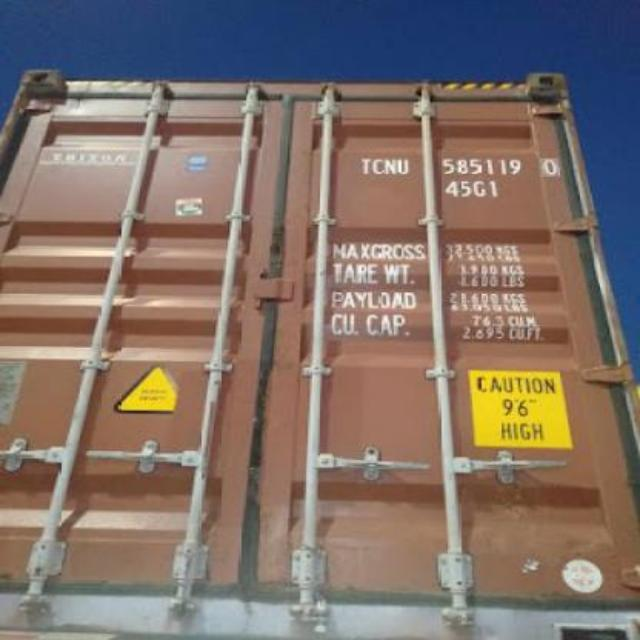0: (542, 157, 558, 175)
1: (484, 156, 496, 174), (498, 157, 508, 175)
5: (440, 156, 456, 174), (470, 156, 486, 174)
8: (456, 156, 468, 177)
9: (508, 158, 524, 178)
C: (372, 157, 386, 173)
N: (384, 157, 398, 175)
T: (360, 156, 372, 174)
U: (398, 157, 410, 175)
